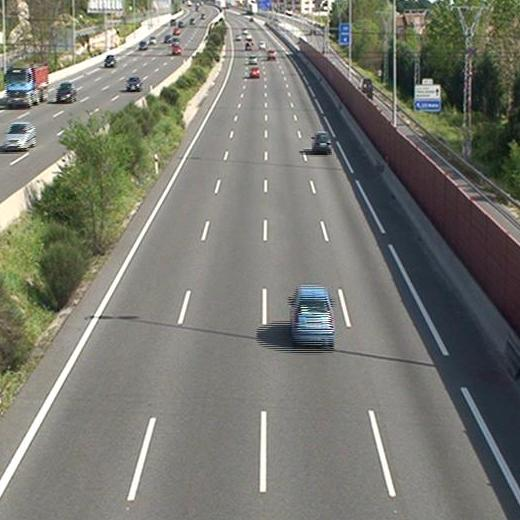car: (291, 286, 334, 344), (313, 131, 332, 151), (250, 67, 261, 77), (266, 48, 275, 58), (247, 55, 255, 62)
